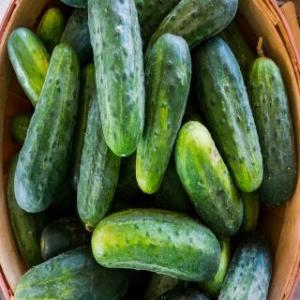cucumber: (192, 33, 266, 198), (12, 42, 82, 215), (90, 206, 220, 282), (84, 0, 144, 154), (134, 31, 190, 194), (248, 56, 300, 210), (77, 79, 122, 231), (13, 243, 128, 299), (216, 230, 272, 300)
